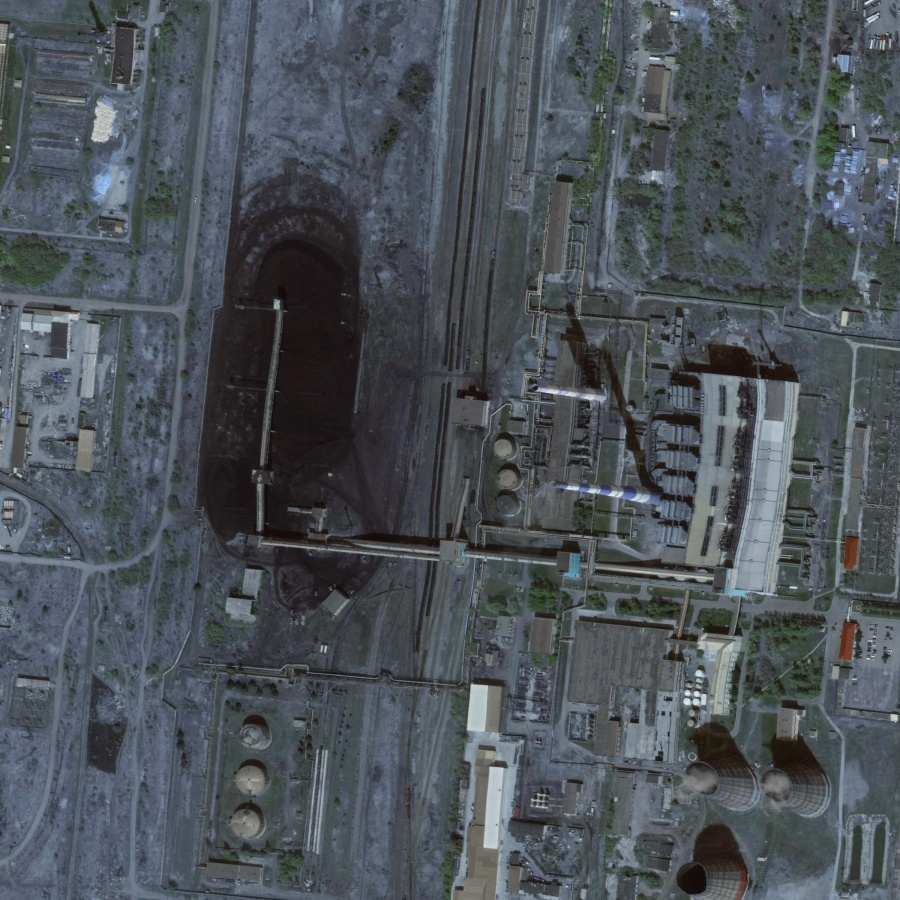PowerPlant: (188, 204, 506, 613), (512, 291, 701, 553), (190, 657, 338, 899)
